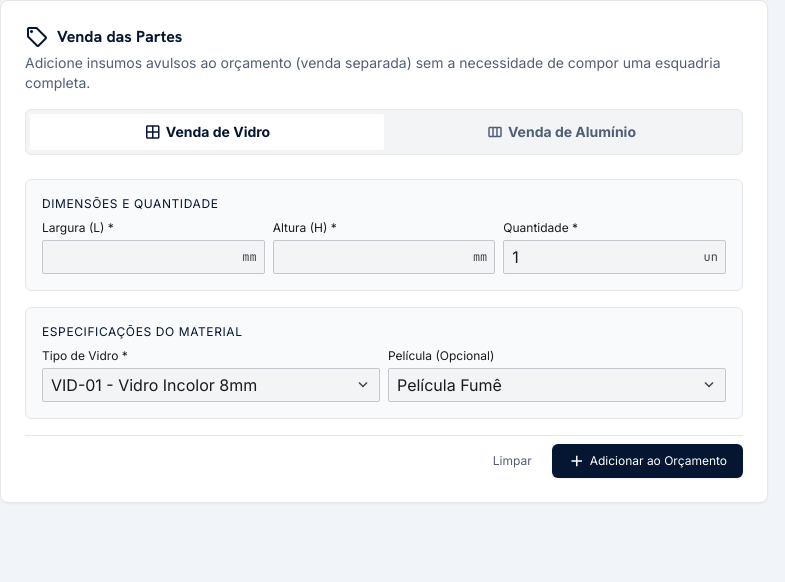
Test: SeparateSaleForm Component [Joseph Nichollas] › deve alternar para o modo Venda de Alumínio ao clicar no segmented control
Click the button "Venda de Alumínio" at [561, 132], box left=384, top=114, right=738, bottom=150
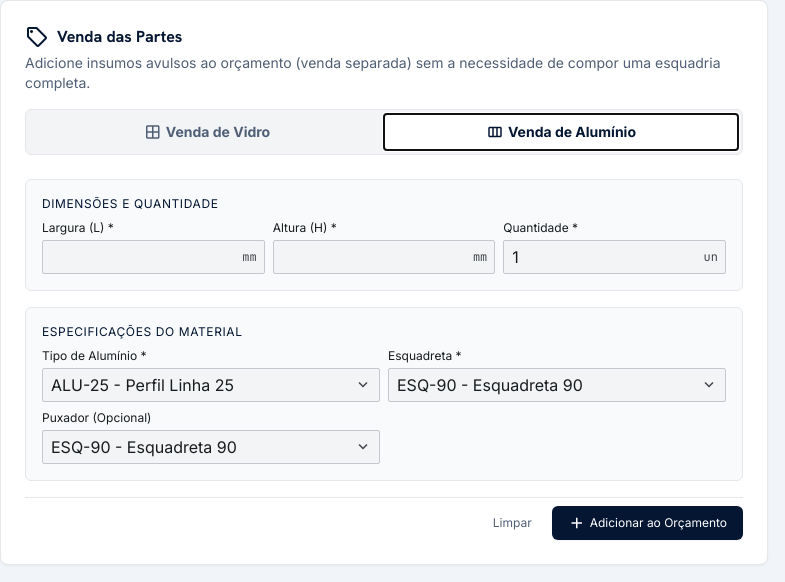
Now the text "Tipo de Alumínio *" is shown, box left=42, top=348, right=147, bottom=363
Now the text "Esquadreta *" is shown, box left=388, top=348, right=462, bottom=363
Now the text "Tipo de Vidro *" is gone
